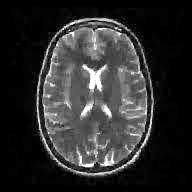Normal_Brain: (19, 1, 187, 192)
